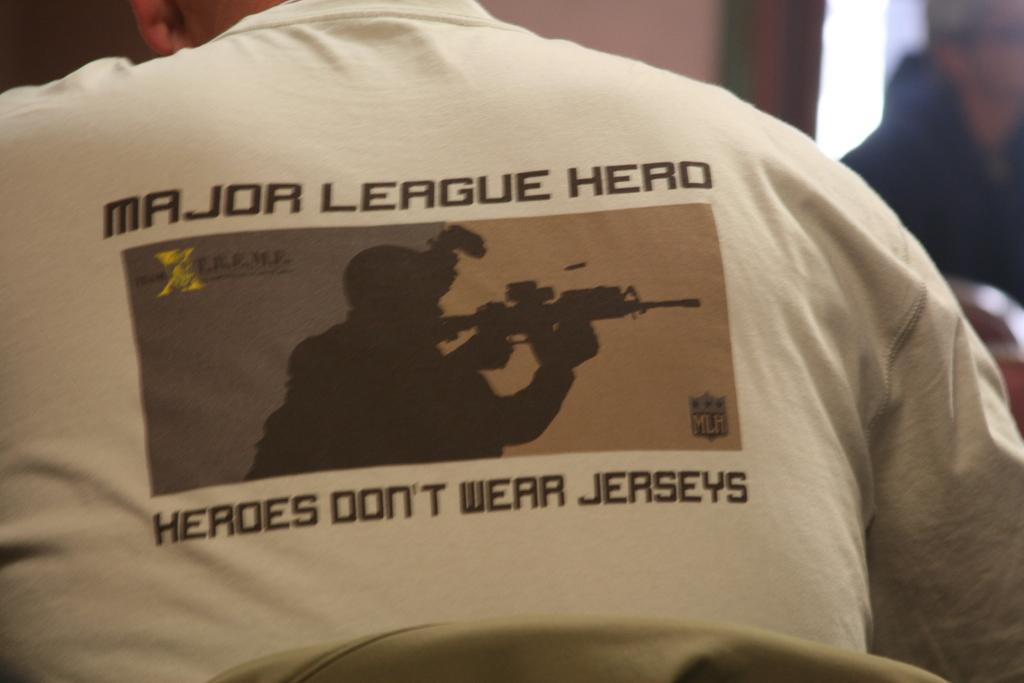non-violence: (0, 0, 1023, 682), (834, 0, 1024, 359)
weapon: (421, 279, 696, 364)
